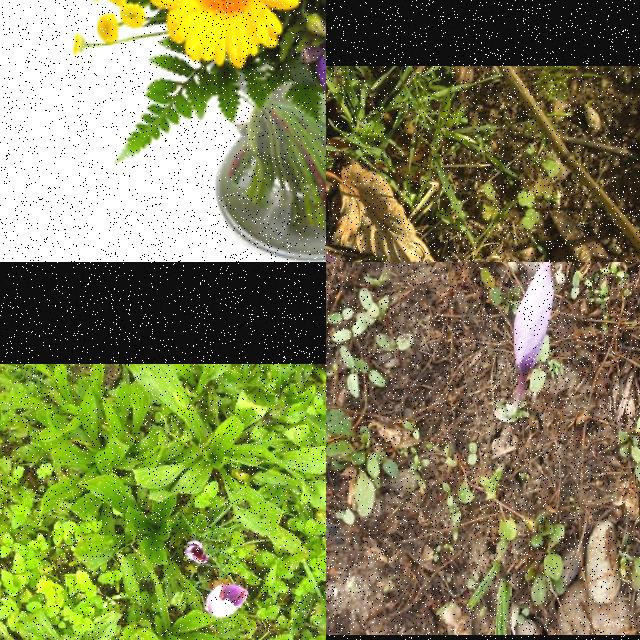flower: (513, 262, 554, 376), (205, 584, 249, 618), (186, 541, 210, 563)
